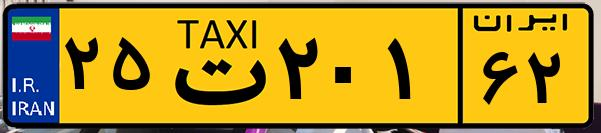0: (330, 28, 385, 110)
1: (385, 28, 445, 110)
2: (270, 28, 330, 110), (57, 26, 110, 100), (525, 38, 570, 115)
5: (110, 28, 158, 98)
6: (475, 38, 525, 113)
ت: (158, 12, 270, 120)
